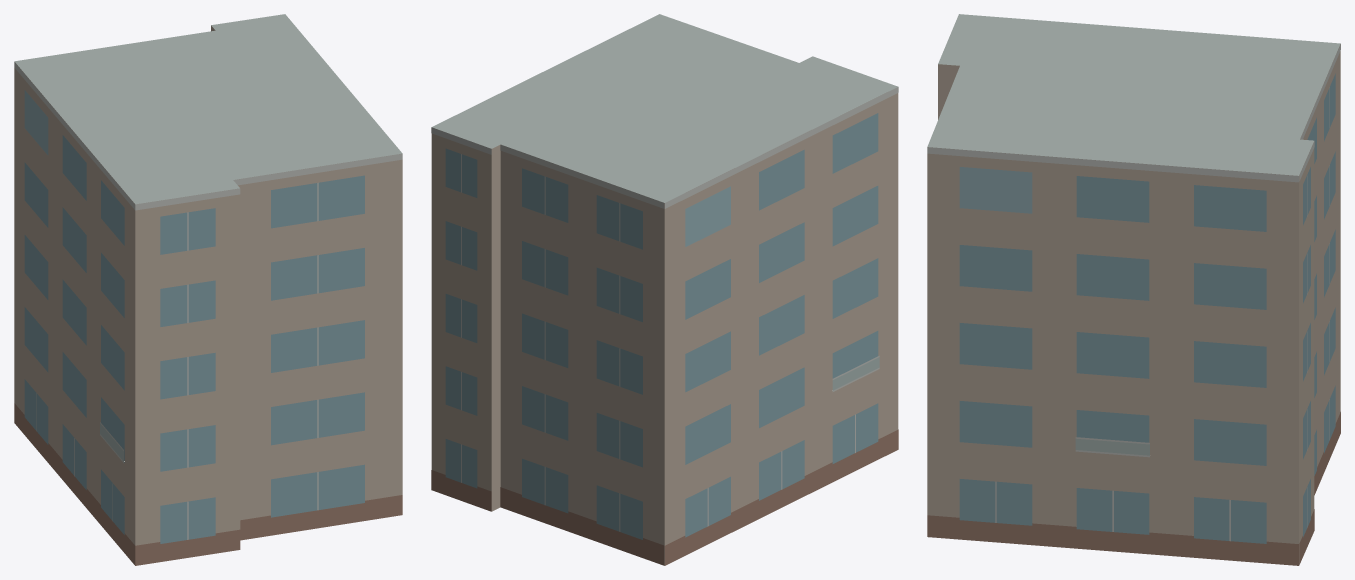
The model's file is survey-upis-32884242.glb.
3 views of the same model, side by side, from view 1: azimuth 30°, elevation 25°; view 2: azimuth 150°, elevation 25°; view 3: azimuth 270°, elevation 25° (orthographic). The views are drawn at different scales.
Visible parts, largest first — view 1: survey-upis-32884242.tmp; view 2: survey-upis-32884242.tmp; view 3: survey-upis-32884242.tmp.
Boxes of the visible parts, <box> form: survey-upis-32884242.tmp: <box>14,14,402,565</box>; survey-upis-32884242.tmp: <box>431,14,898,565</box>; survey-upis-32884242.tmp: <box>927,14,1340,565</box>.
Bounding box in the file's own units: 12.91 × 14.49 × 13.93.
